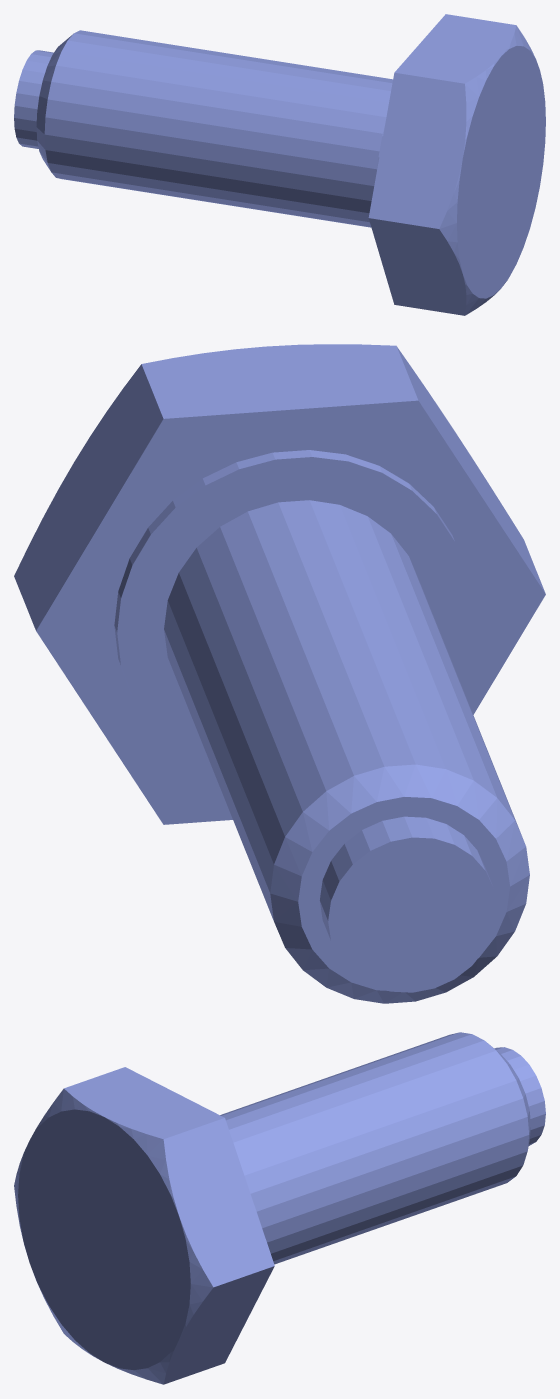
Rendered from Torno1.glb.
The picture shows the model from 3 angles, top to bottom: view 1: azimuth 30°, elevation 25°; view 2: azimuth 150°, elevation 25°; view 3: azimuth 270°, elevation 25°; orthographic projection. The views are drawn at different scales.
Visible parts, largest first — view 1: gn_13787; view 2: gn_13787; view 3: gn_13787.
Boxes of the visible parts, <box> form: gn_13787: <box>14,14,545,315</box>; gn_13787: <box>14,344,545,1003</box>; gn_13787: <box>14,1032,545,1384</box>.
Size of the model in its own units: 30.82 by 17 by 33.39.
